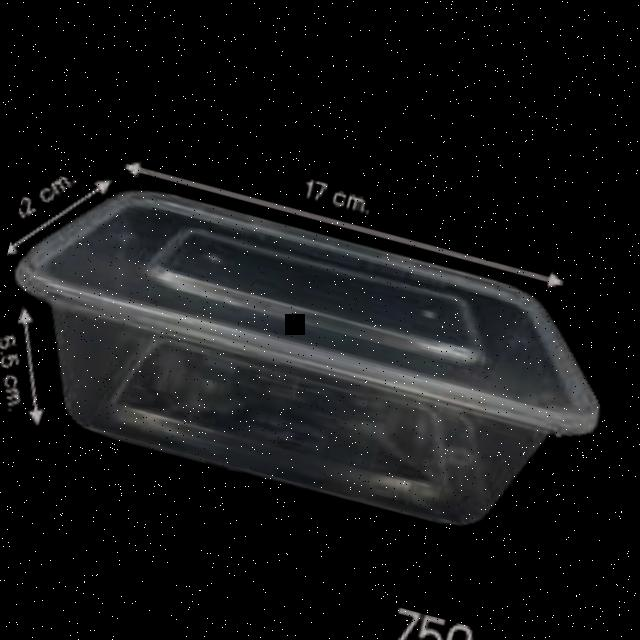plastic_box: (0, 164, 624, 558)
